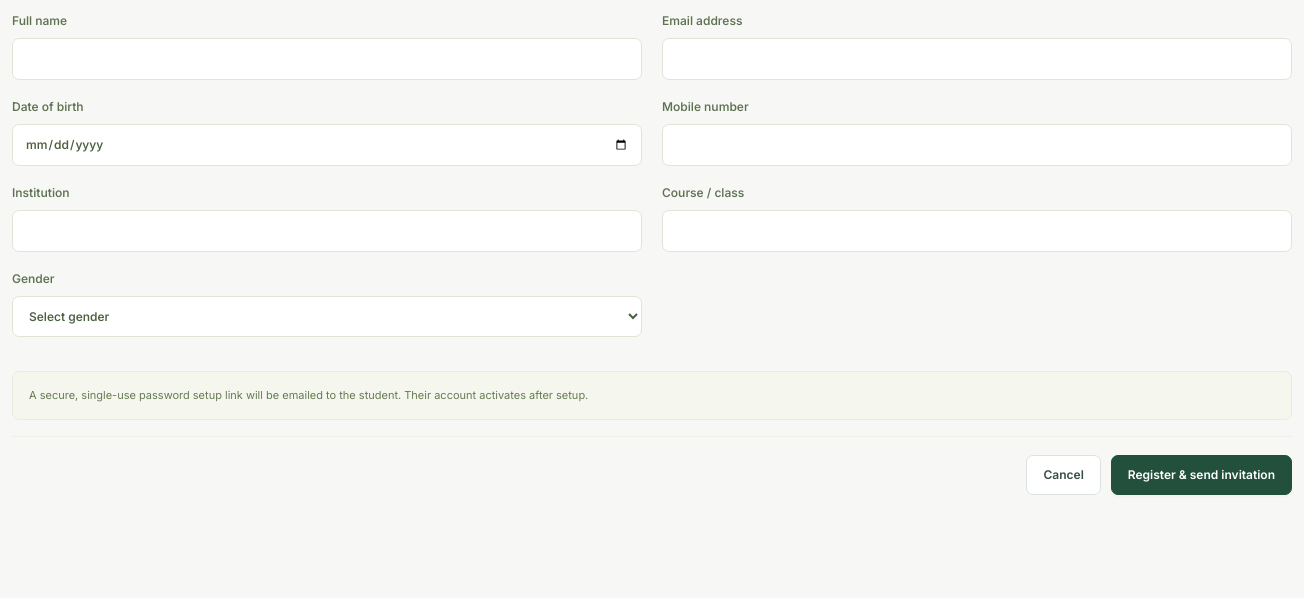
Scenario: Portal workflows › requires student registration details
Click the button "Register & send invitation".
click(1201, 475)  # box [1111,455,1292,496]
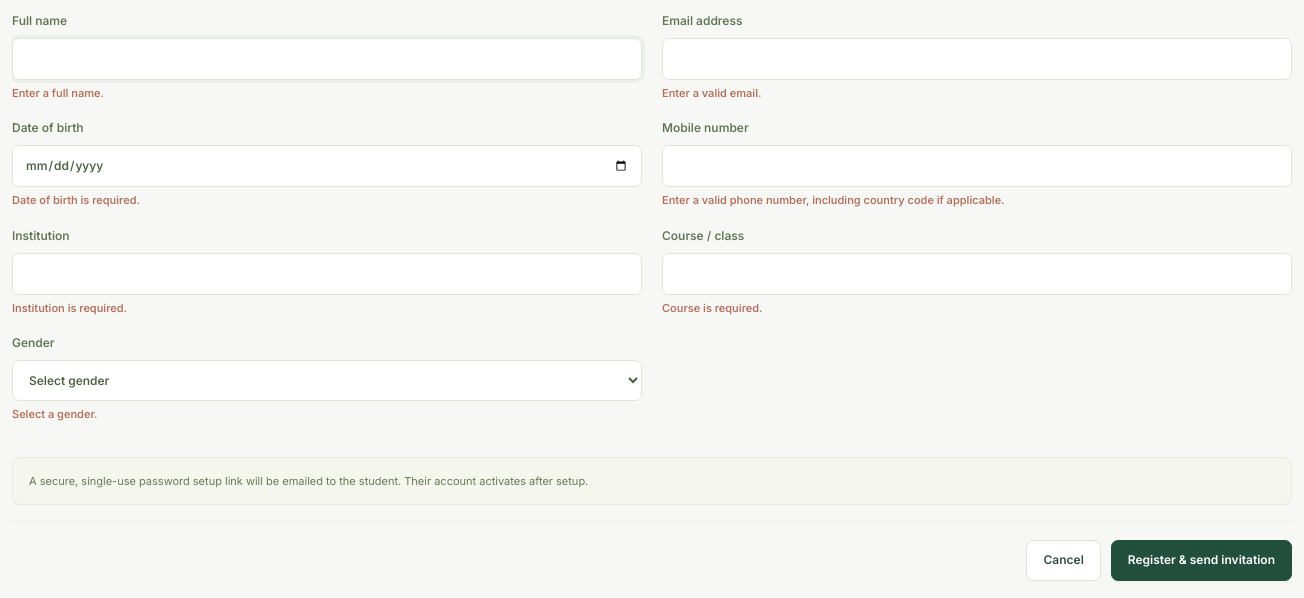
Result: the text "Institution is required." is shown at [12,301,127,315]
